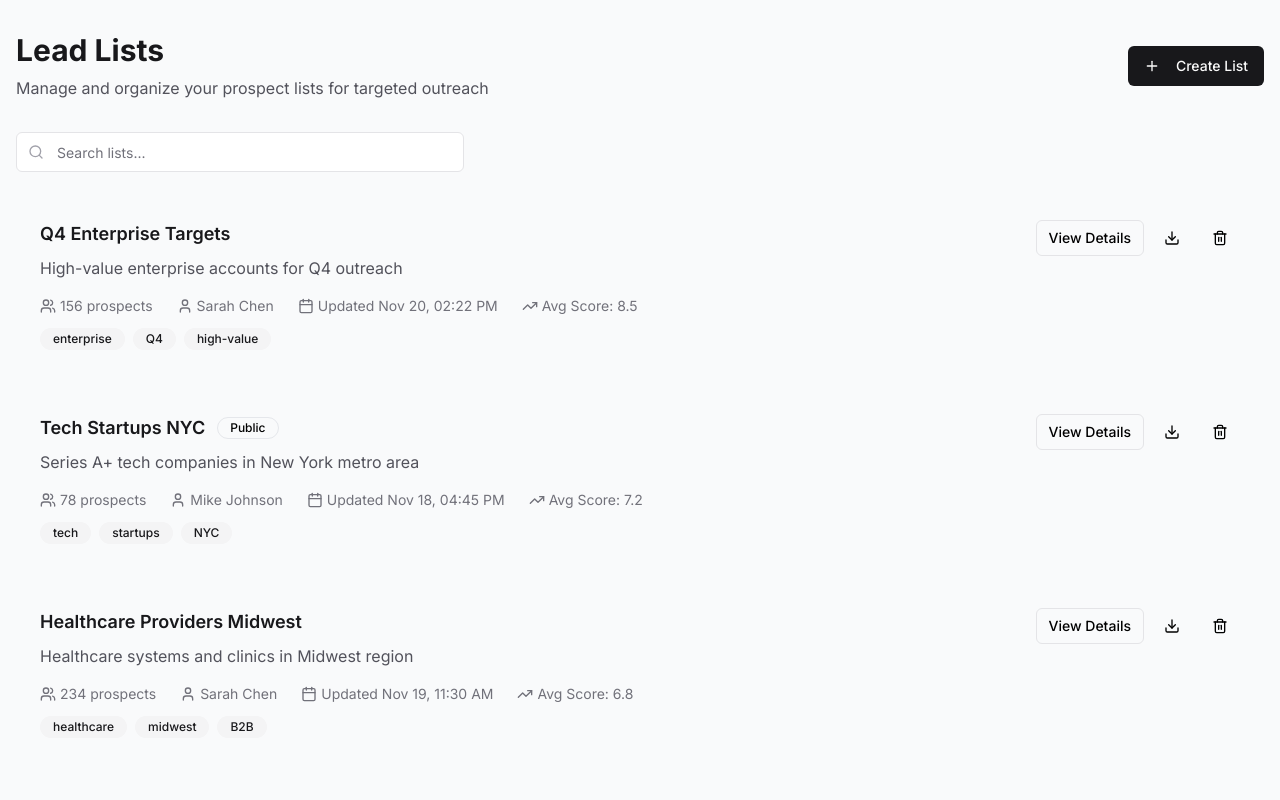
Test case: ListsPage › filters lists based on search query
Expected: the heading "Q4 Enterprise Targets" is shown, [40, 220, 230, 248]
Type "Healthcare" into the field with placeholder "Search lists..." at (240, 152), box [16, 132, 464, 172]
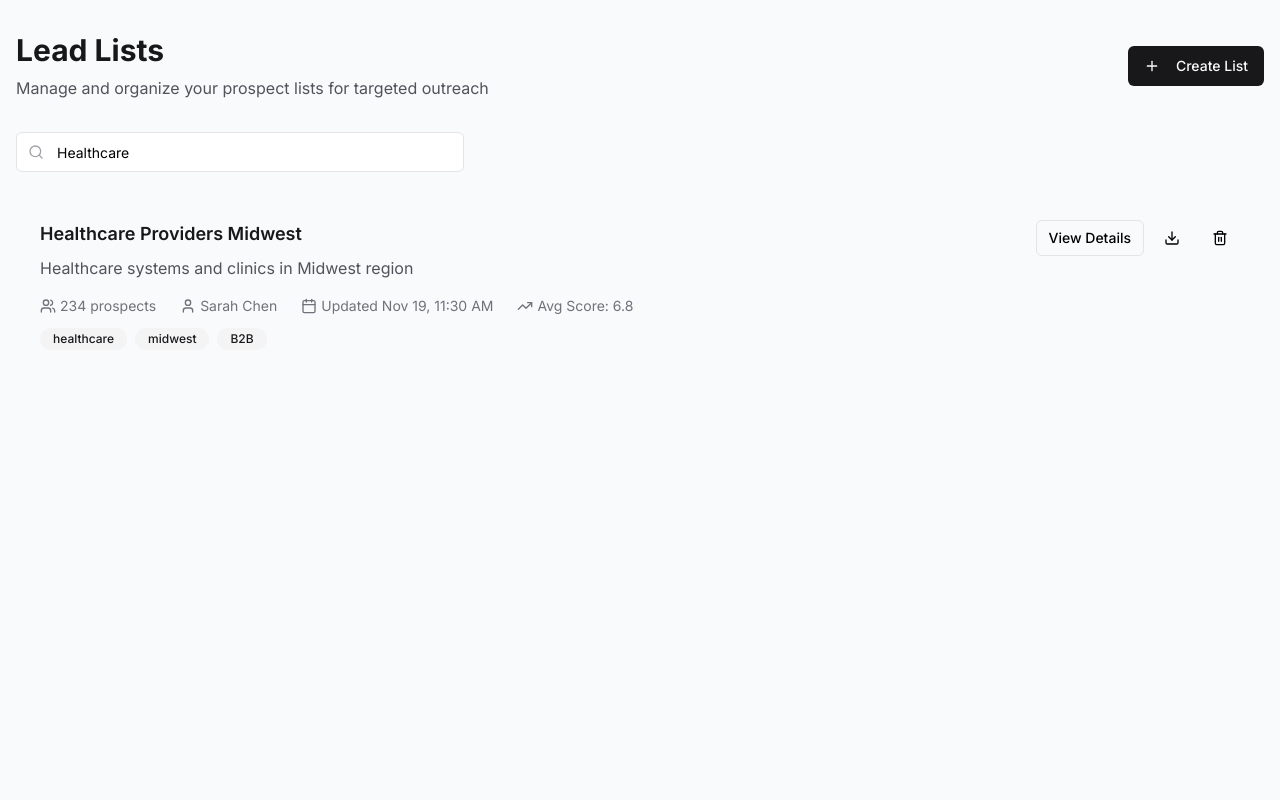
Expected: the heading "Healthcare Providers Midwest" is shown, [40, 220, 302, 248]
Now the heading "Q4 Enterprise Targets" is gone
